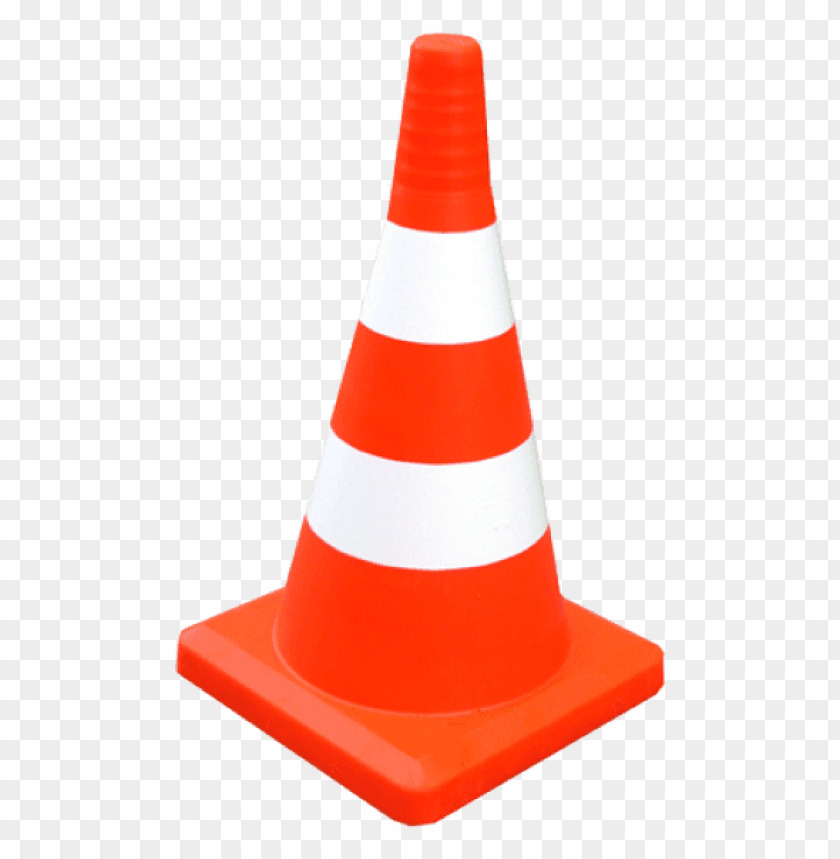cones: (155, 29, 679, 830)
